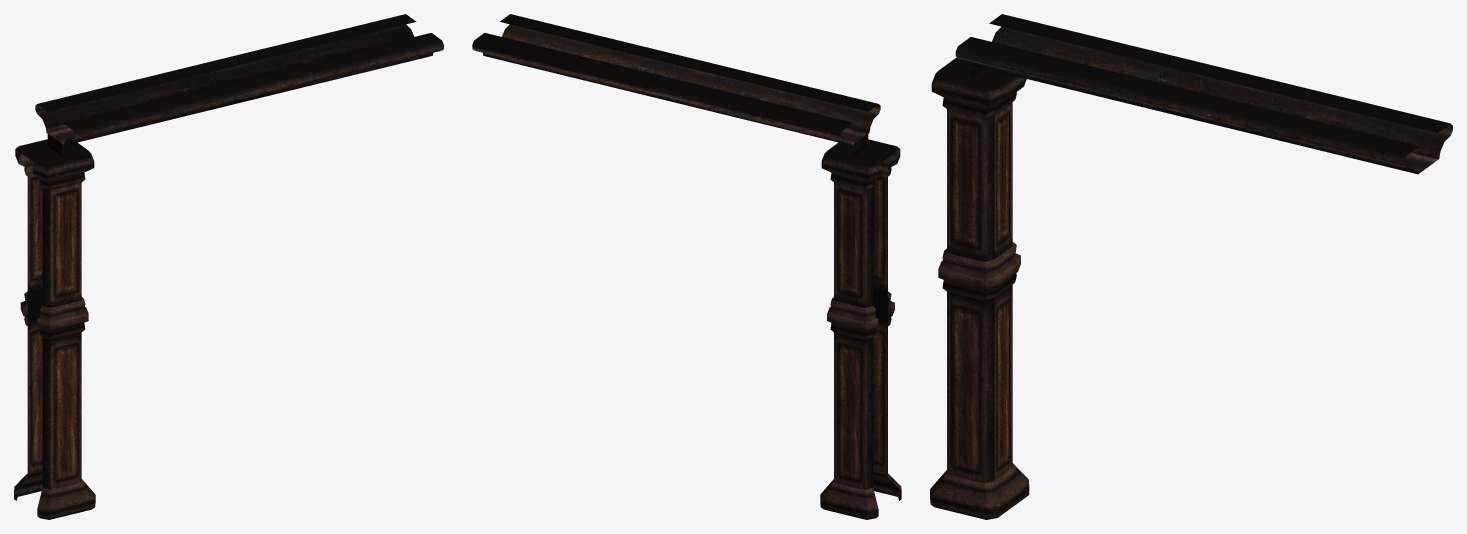
The model's file is default02_mansion_endcap_01.DAE.
3 renders of one model, left to right at view 1: azimuth 30°, elevation 25°; view 2: azimuth 150°, elevation 25°; view 3: azimuth 330°, elevation 25°, orthographic. The views are drawn at different scales.
Parts seen in each view (by area): view 1: Object003; view 2: Object003; view 3: Object003.
Part boxes in pixels (x1=…): Object003: x1=14, y1=14, x2=443, y2=519; Object003: x1=472, y1=14, x2=901, y2=519; Object003: x1=930, y1=14, x2=1452, y2=519.
Bounding box in the file's own units: 4.32 × 4 × 0.7482.
